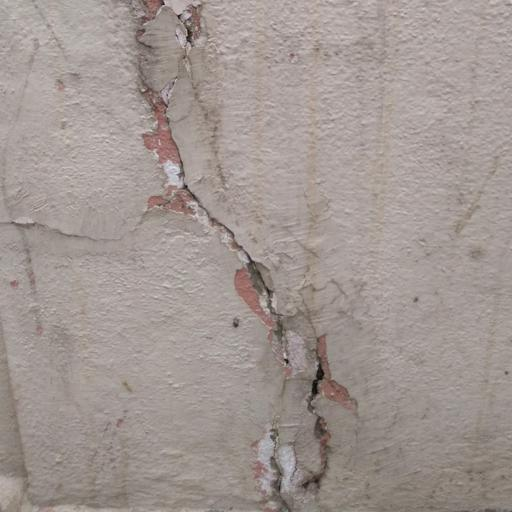major_crack: (112, 0, 369, 512)
